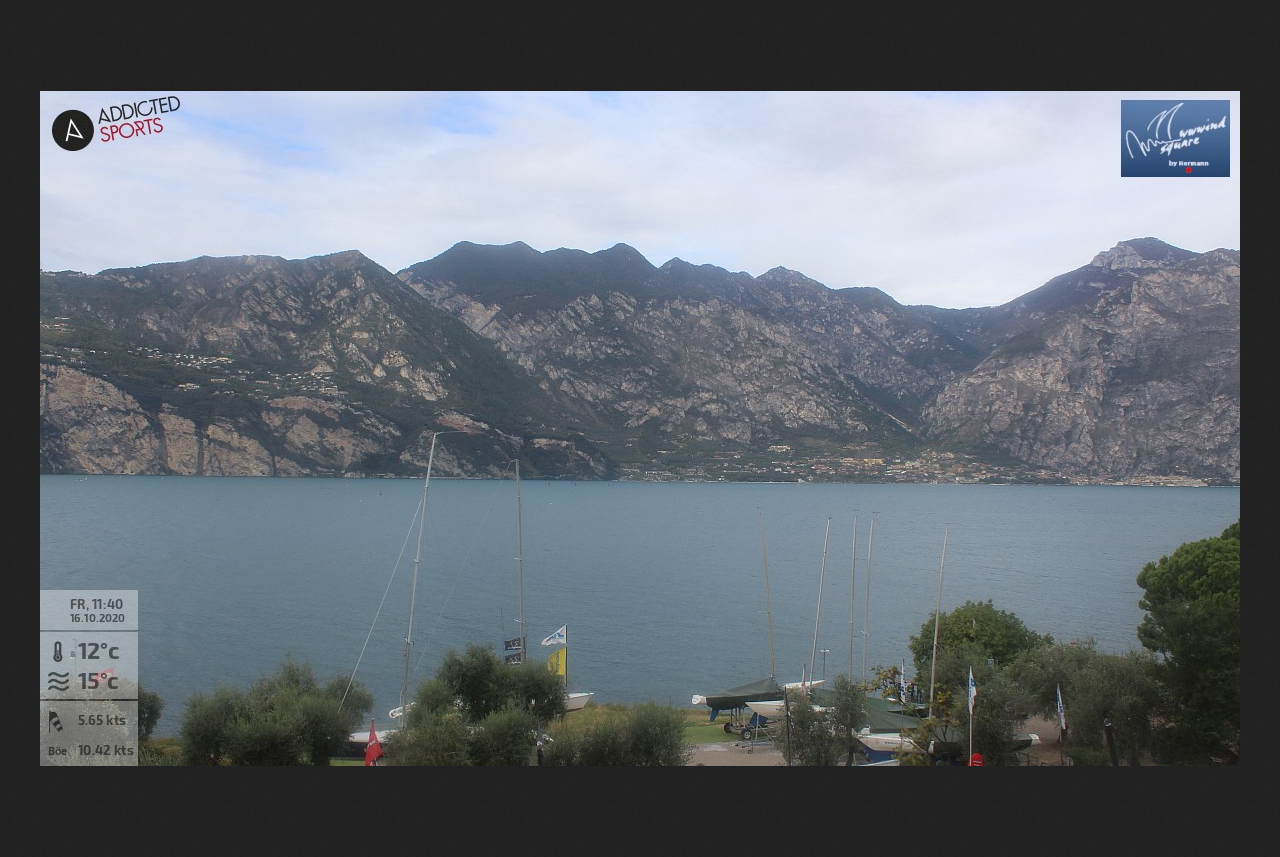maybe: (542, 622, 566, 647)
no: (1051, 682, 1070, 732), (963, 665, 979, 713)
